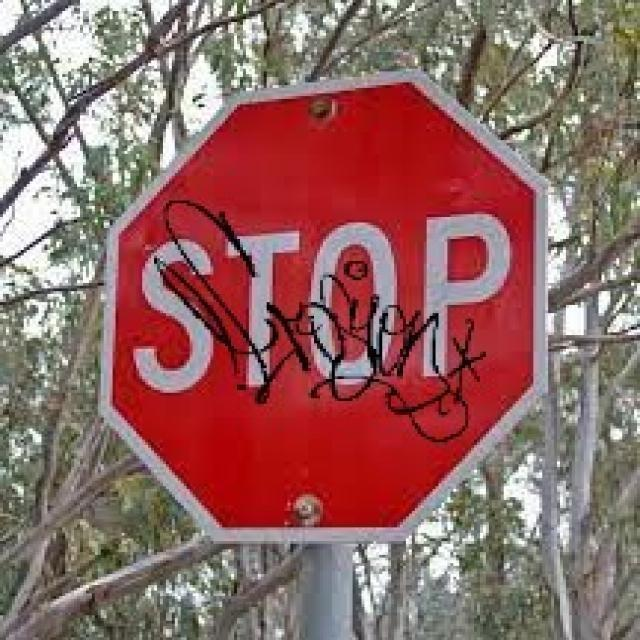Stop-Sign: (125, 97, 540, 511)
